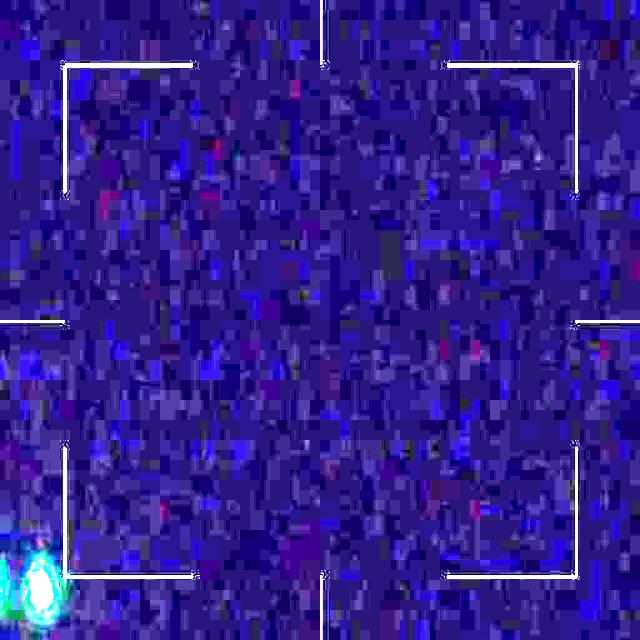bird: (0, 560, 54, 618)
